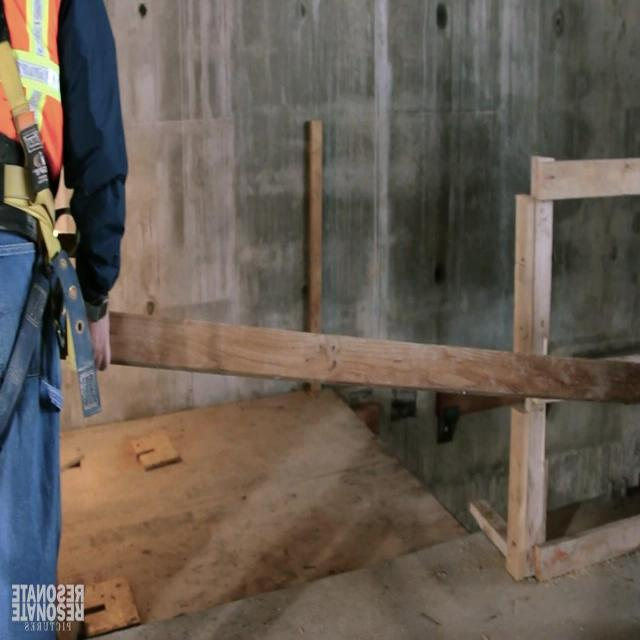Reflective-Jacket: (0, 0, 94, 201)
